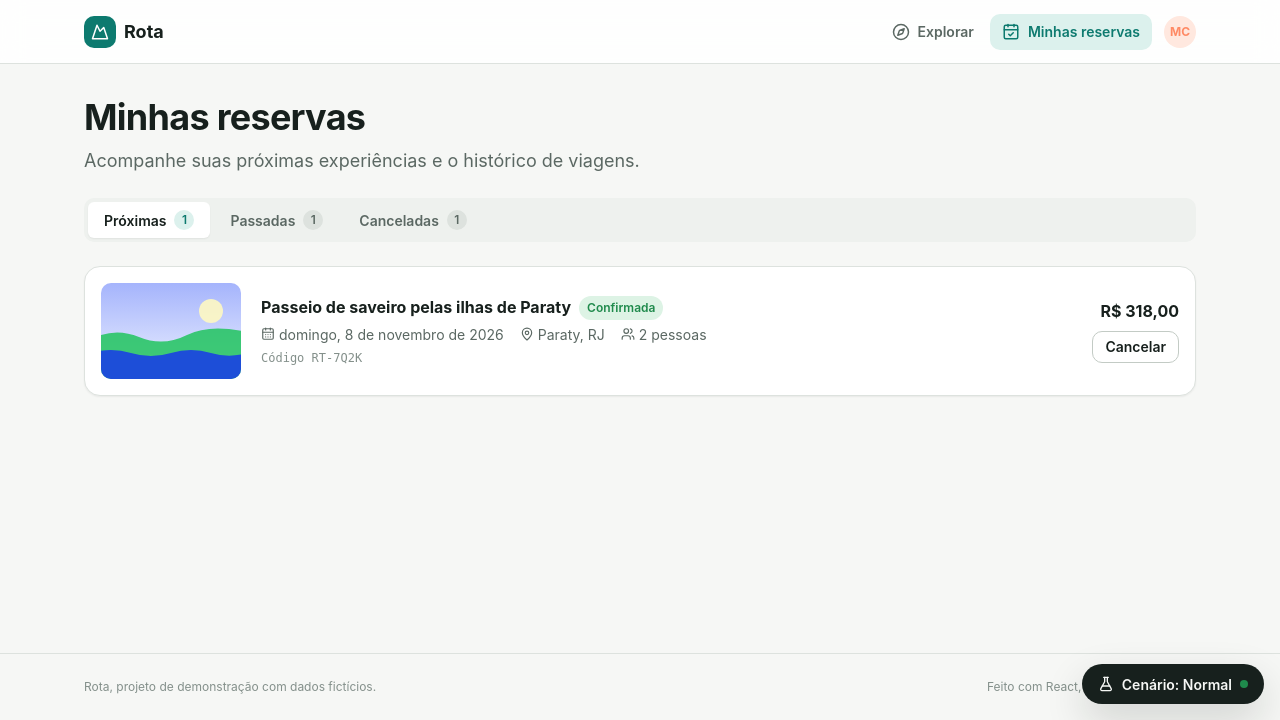
Scenario: BookingsPage › separa as reservas por aba
expect the link "Passeio de saveiro pelas ilhas de Paraty" is shown: met, box [261, 297, 571, 317]
Click the tab "Passadas 1" at (277, 220), box [214, 202, 339, 238]
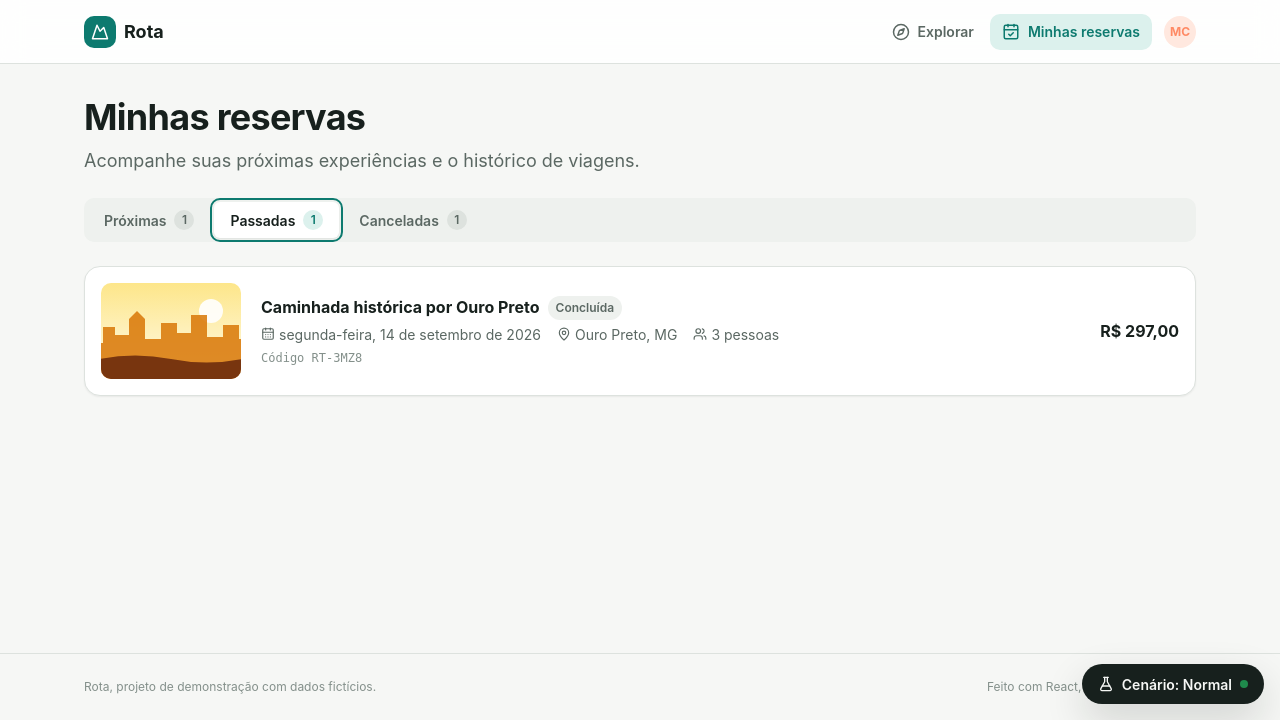
expect the link "Caminhada histórica por Ouro Preto" is shown: met, box [261, 297, 540, 317]
Click the tab "Canceladas 1" at (413, 220), box [343, 202, 483, 238]
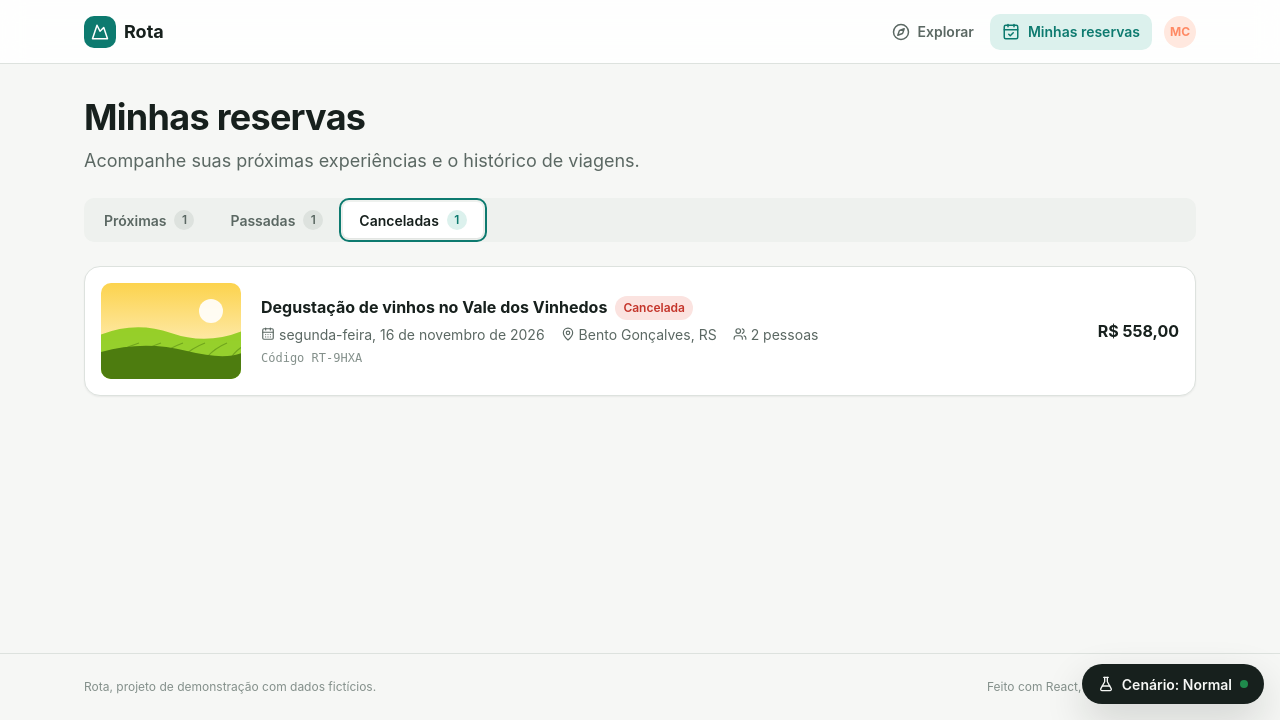
expect the link "Degustação de vinhos no Vale dos Vinhedos" is shown: met, box [261, 297, 607, 317]
